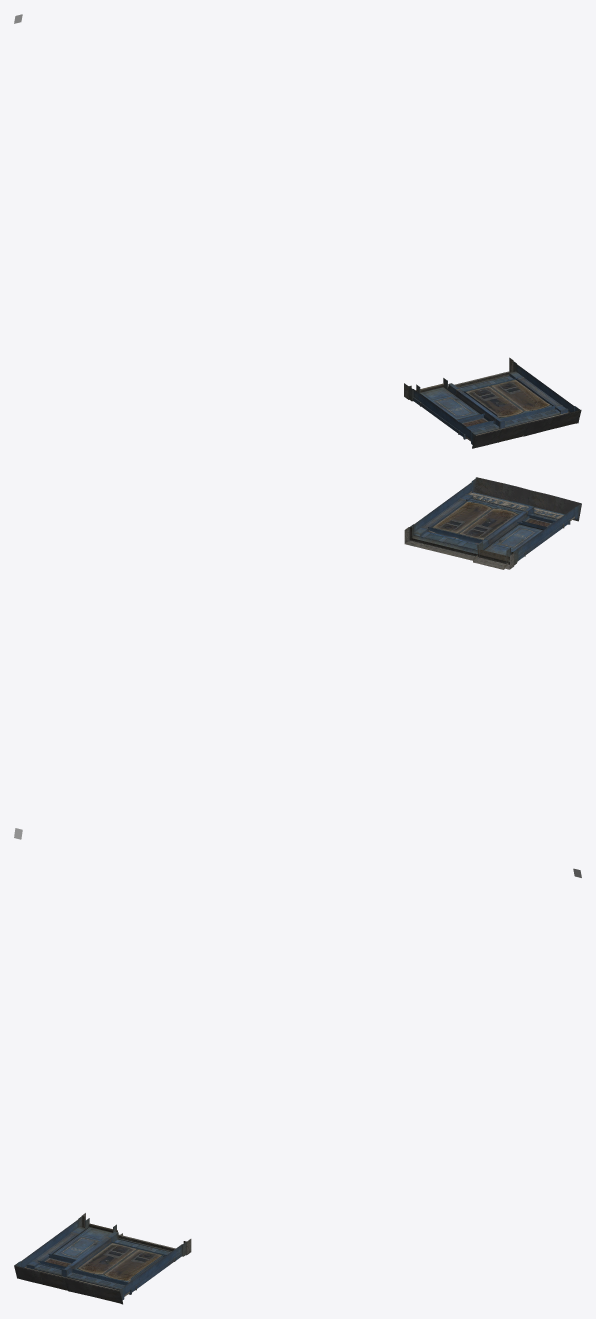
Rendered from env_112_05_ShopWindow_06.glb.
The picture shows the model from 3 angles, top to bottom: view 1: azimuth 30°, elevation 25°; view 2: azimuth 150°, elevation 25°; view 3: azimuth 330°, elevation 25°; orthographic projection.
Visible parts, largest first — view 1: set_0_group_0; view 2: set_0_group_0; view 3: set_0_group_0.
Boxes of the visible parts, left/top/right/bottom form: set_0_group_0: left=404, top=357, right=581, bottom=448; set_0_group_0: left=404, top=477, right=581, bottom=569; set_0_group_0: left=14, top=1213, right=191, bottom=1304.
Size of the model in its own units: 3.6 by 1.66 by 30.07.
2 materials, 1 textured.
